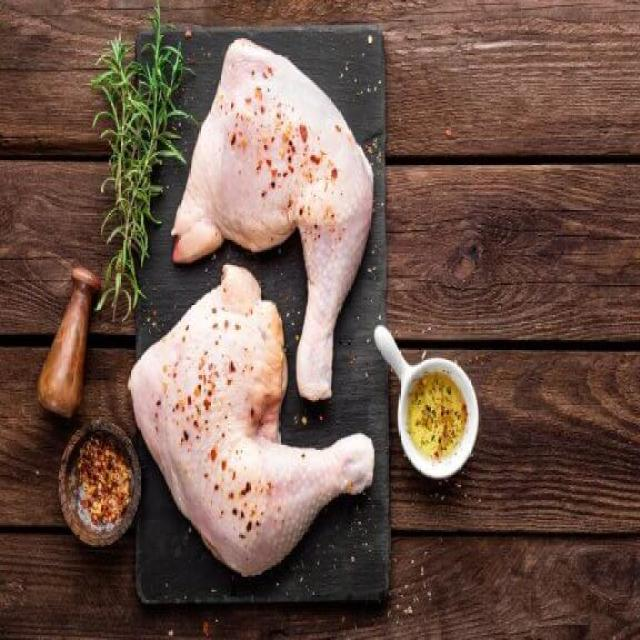chicken: (124, 270, 381, 585), (169, 39, 379, 400)
